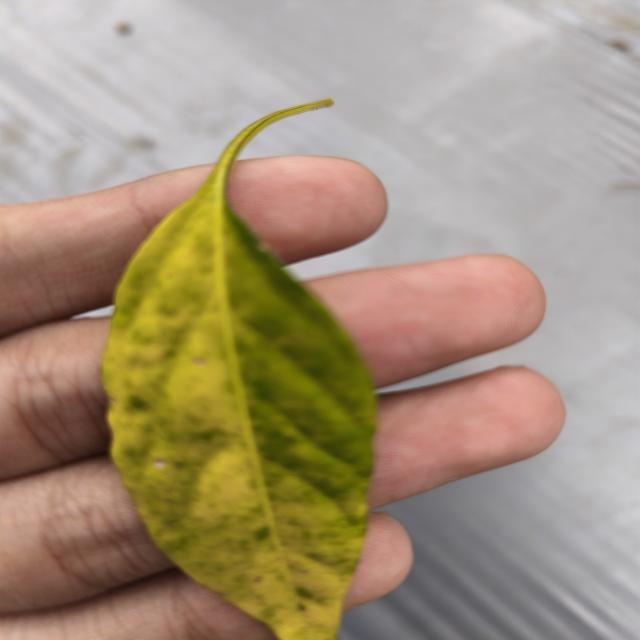Virus Kuning: (99, 173, 379, 639)
